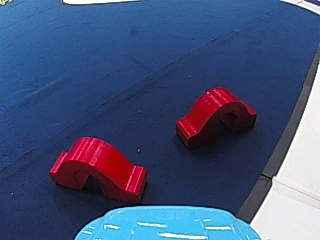bridge: (44, 133, 153, 204), (171, 84, 257, 150)
